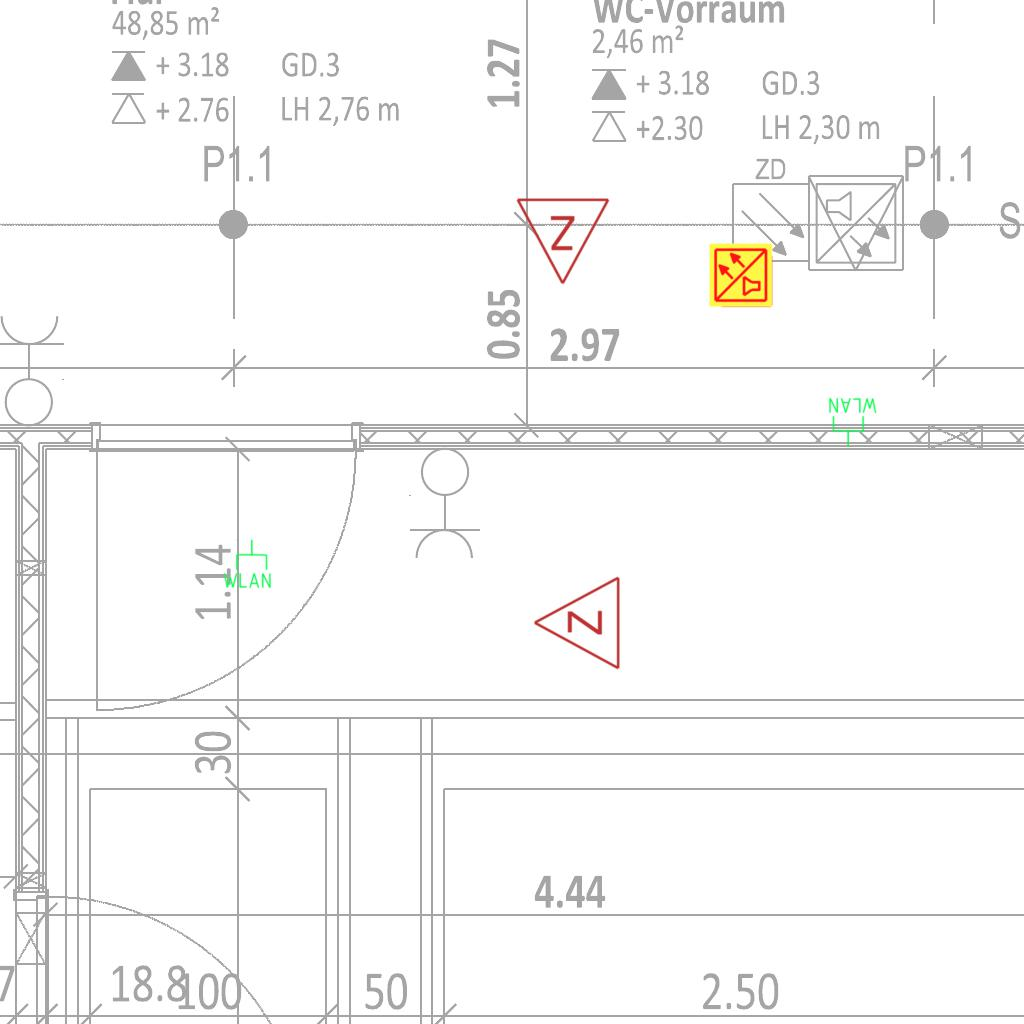OKW_Multisensormelder_(Kombination_optischer_Rauch-Kahlenmonoxid_Waerme-Melder): (708, 242, 774, 308)
WLAN: (221, 538, 273, 590), (827, 396, 879, 448)
Zimmersignalleuchte: (515, 191, 613, 291), (527, 575, 627, 673)
